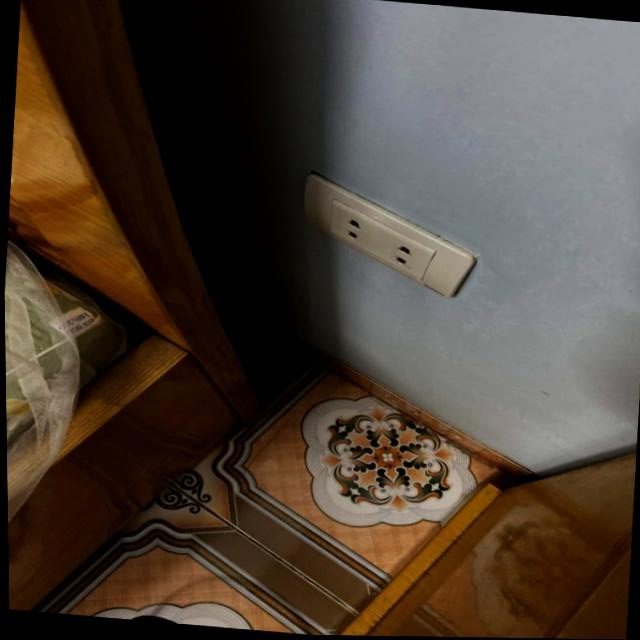outlet: (297, 169, 484, 300)
